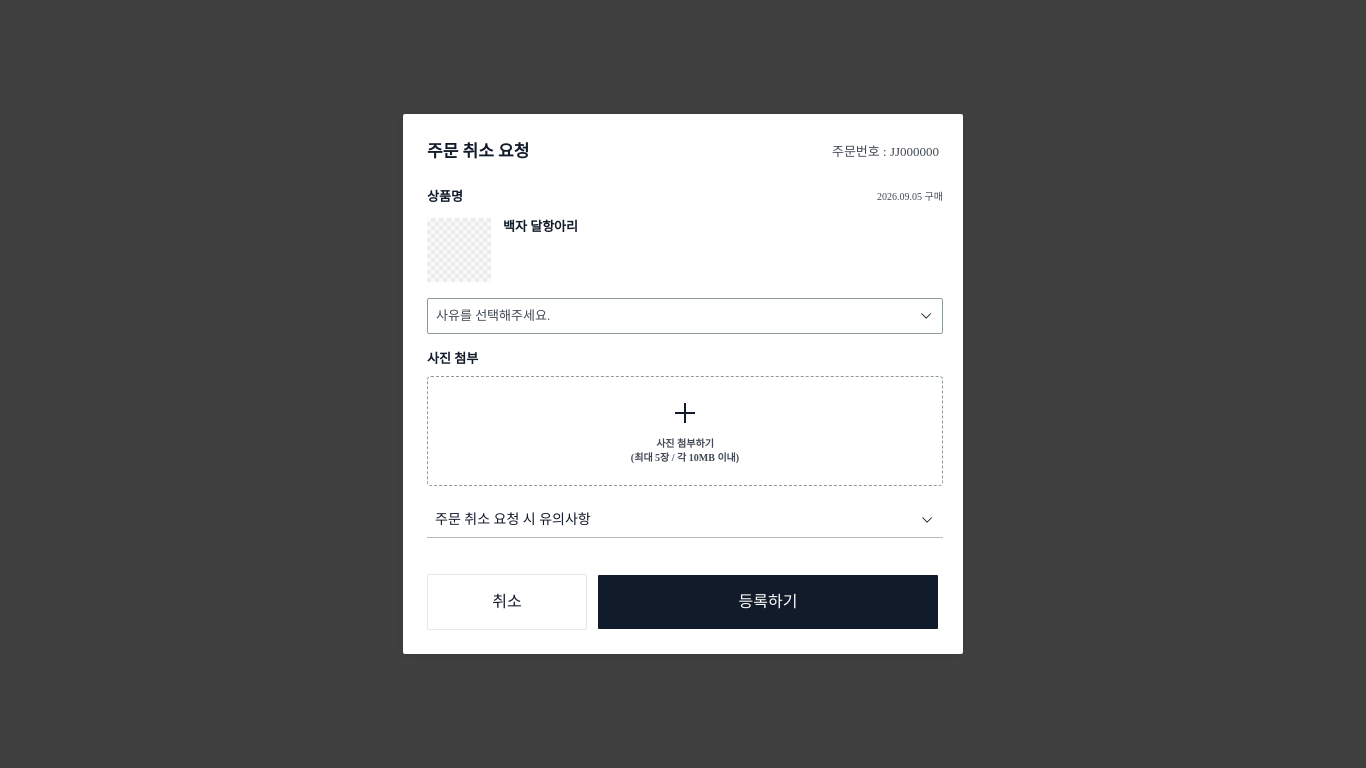
Test: OrderCancelRequestModal › 직접 입력을 고르고 사유를 안 쓰면 제출되지 않는다
Click the dropdown named "취소 사유".
click(493, 315)  # box left=427, top=298, right=943, bottom=334
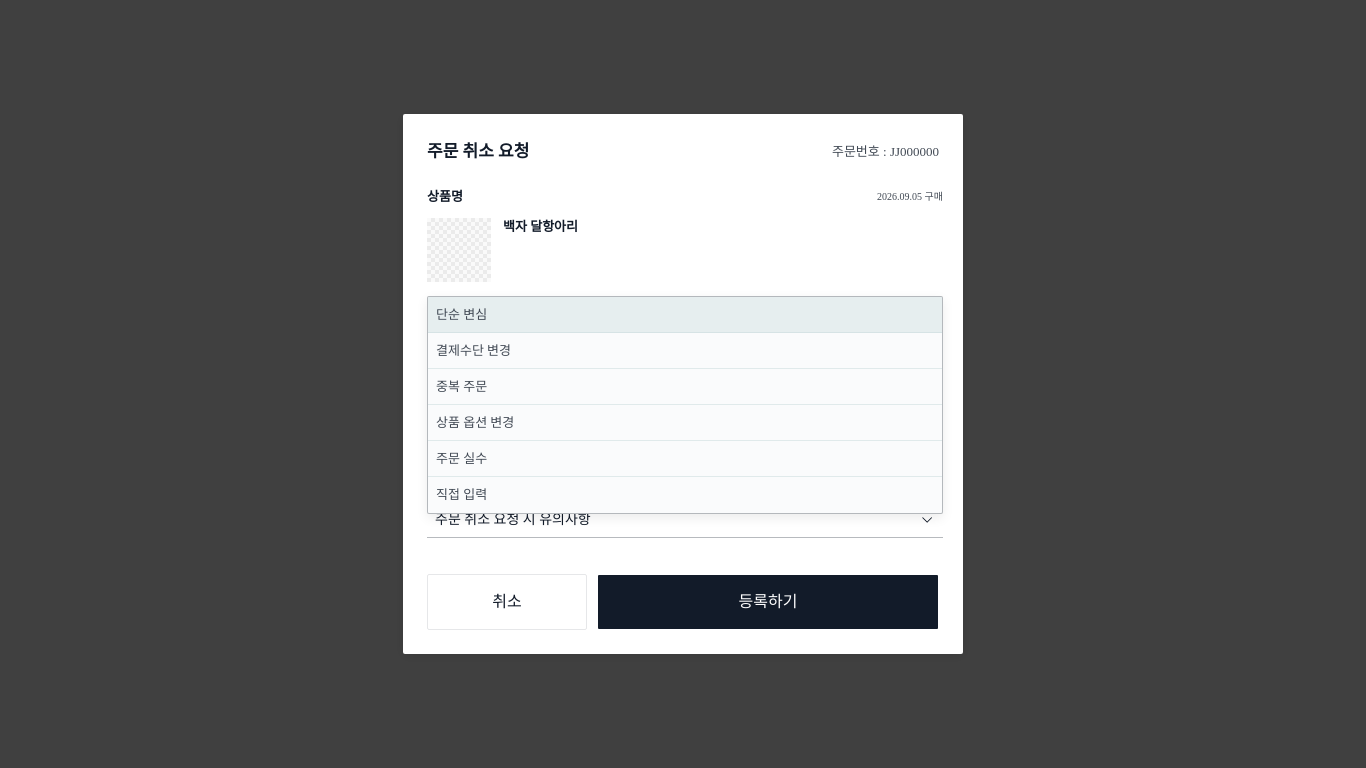
Click the option "직접 입력".
click(462, 495)  # box left=436, top=487, right=487, bottom=502
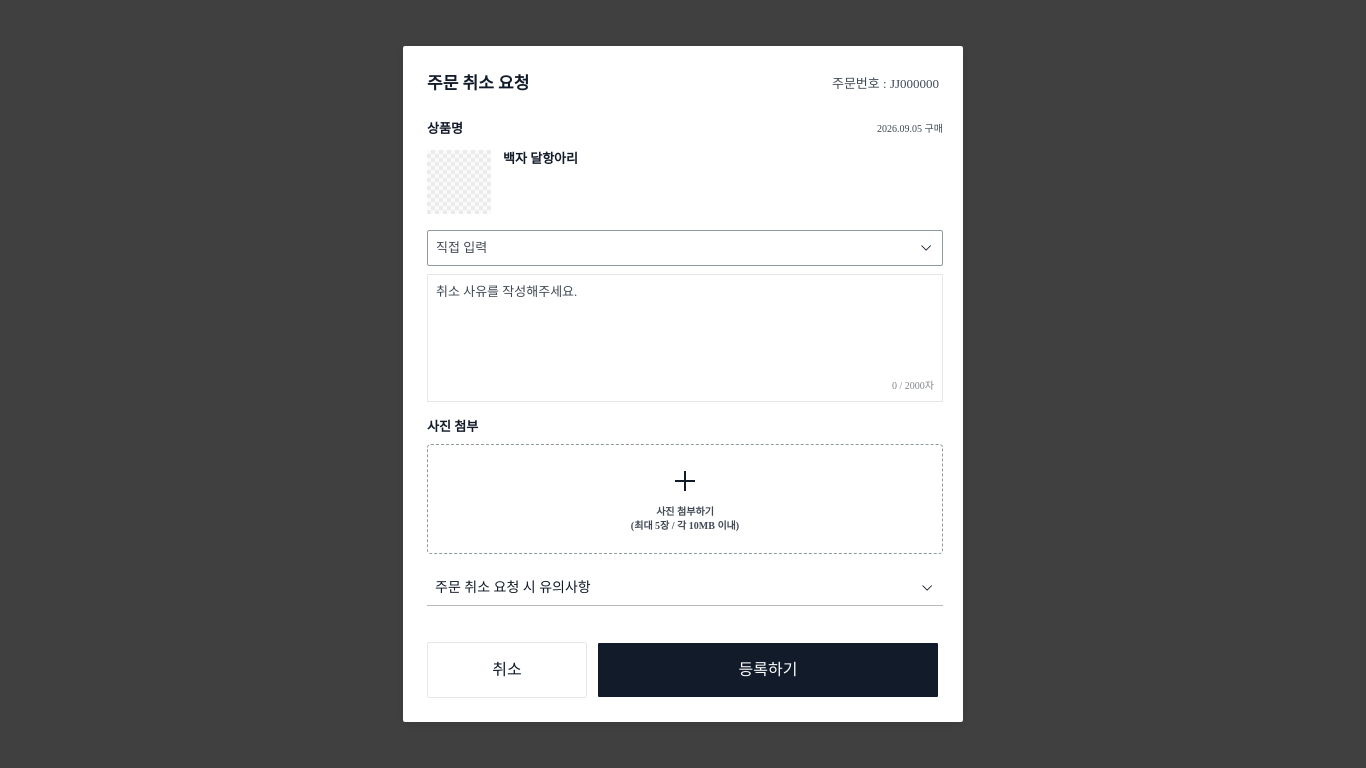
Click the button "등록하기".
click(768, 670)  # box left=597, top=642, right=939, bottom=698
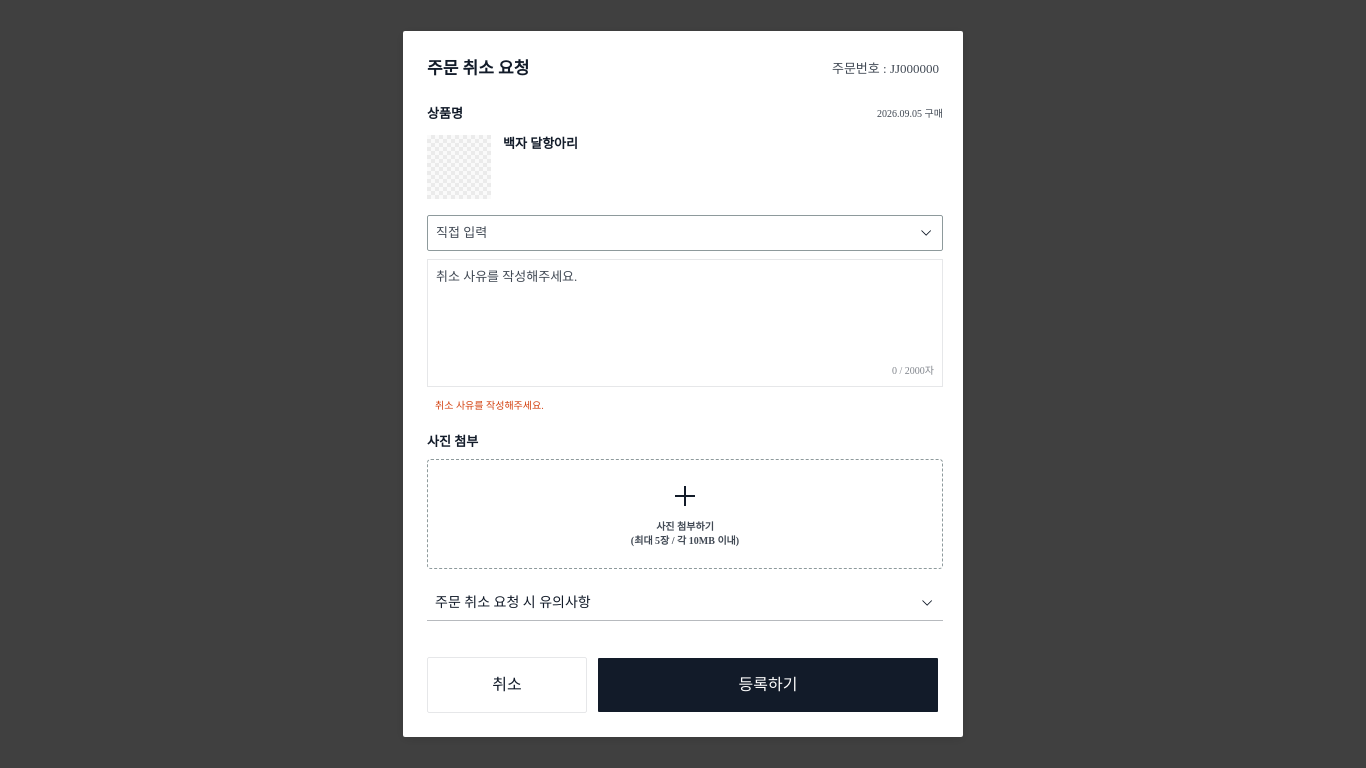
Result: the text "취소 사유를 작성해주세요." is shown at left=435, top=400, right=544, bottom=411
